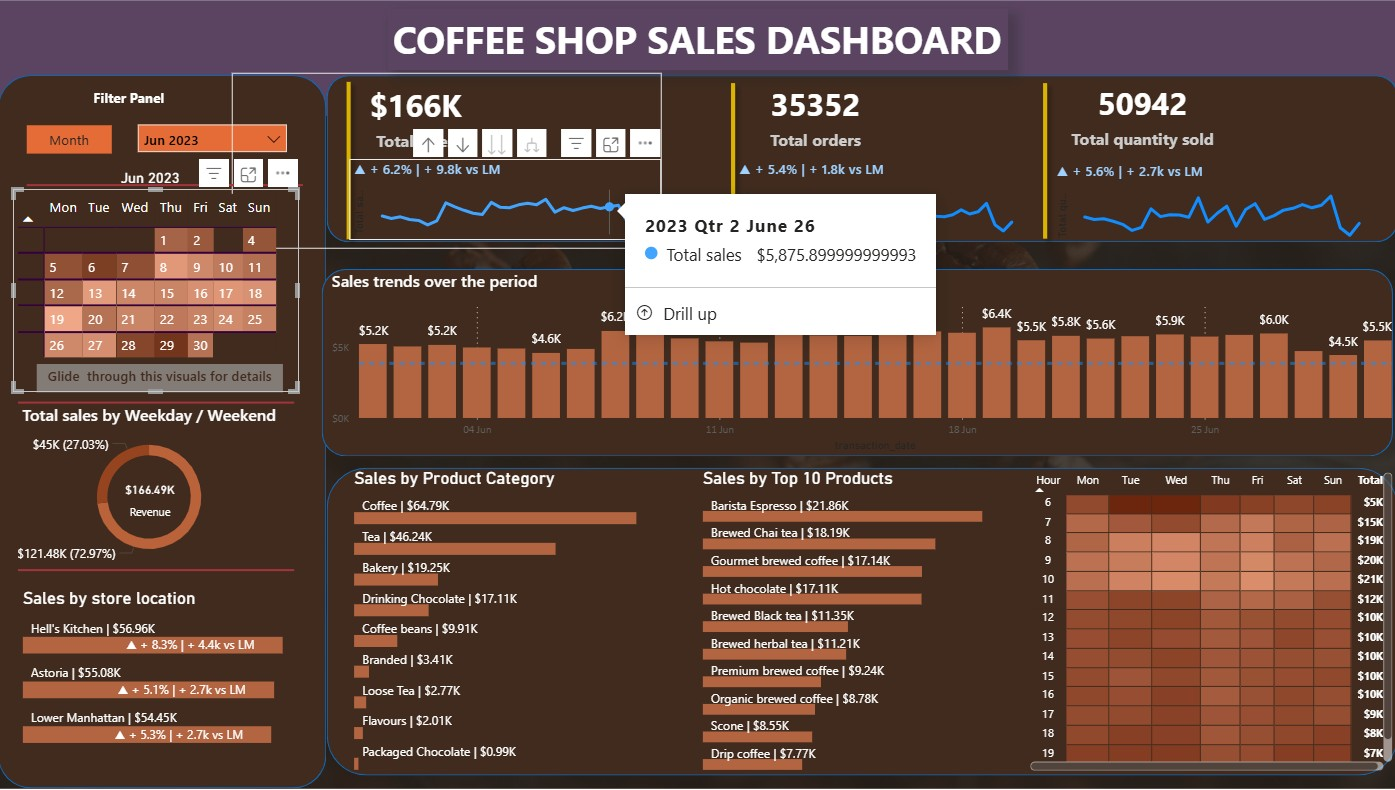

Layout of this report page (visuals, bound fields, positions):
{"tool":"powerbi","page":{"name":"Page 1","canvas":[1383,858],"ordinal":0},"visuals":[{"type":"shape","box":[0,35.6,1383.3,114.2],"z":0},{"type":"shape","box":[231.1,107.9,230.9,173.5],"z":0,"group":"g4"},{"type":"shape","box":[604,108.9,244.6,173],"z":0,"group":"g5"},{"type":"shape","box":[882.2,109.4,305.5,171.7],"z":0,"group":"g6"},{"type":"shape","box":[0,105.4,324.4,709.6],"z":1000},{"type":"lineChart","fields":{"Category":["Date table.Date.Variation.Date Hierarchy.Year","Date table.Date.Variation.Date Hierarchy.Quarter","Date table.Date.Variation.Date Hierarchy.Month","Date table.Date.Variation.Date Hierarchy.Day"],"Y":["Transactions.Total orders"]},"box":[727,192.6,289.4,78.2],"z":1000,"group":"g5"},{"type":"lineChart","fields":{"Category":["Date table.Date.Variation.Date Hierarchy.Year","Date table.Date.Variation.Date Hierarchy.Quarter","Date table.Date.Variation.Date Hierarchy.Month","Date table.Date.Variation.Date Hierarchy.Day"],"Y":["Transactions.Total sales"]},"box":[347.3,193.2,308.2,79.7],"z":1000,"group":"g4"},{"type":"lineChart","fields":{"Category":["Date table.Date.Variation.Date Hierarchy.Year","Date table.Date.Variation.Date Hierarchy.Quarter","Date table.Date.Variation.Date Hierarchy.Month","Date table.Date.Variation.Date Hierarchy.Day"],"Y":["Transactions.Total QUANTITY SOLD"]},"box":[1041.4,195.3,319,81.1],"z":1000,"group":"g6"},{"type":"shape","box":[324.4,109.5,1058.3,164.9],"z":2000},{"type":"textbox","box":[526.6,36,442.6,60],"z":3000},{"type":"card","fields":{"Values":["Transactions.Total QUANTITY SOLD"]},"box":[1048.6,105.4,180.2,102.3],"z":4000,"group":"g3"},{"type":"card","fields":{"Values":["Transactions.Total orders"]},"box":[736.7,106.8,158.6,102.3],"z":4000,"group":"g2"},{"type":"card","fields":{"Values":["Transactions.Total sales"]},"box":[341,108.2,158.6,102.3],"z":4000,"group":"g1"},{"type":"slicer","fields":{"Values":["Date table.Month Year"]},"box":[133.8,148.7,156.8,62.2],"z":4000},{"type":"group","id":"g1","title":"Group 2","box":[231.1,107.9,424.3,173.5],"z":5000},{"type":"group","id":"g2","title":"Group 2","box":[604,106.8,412.4,175.1],"z":6000},{"type":"group","id":"g3","title":"Group 2","box":[882.2,105.4,478.2,175.7],"z":7000},{"type":"pivotTable","fields":{"Rows":["Date table.Week Number"],"Columns":["Date table.Day name"],"Values":["Min(Date table.Day Number)"]},"box":[14.9,221.7,282.5,201.4],"z":8000},{"type":"group","id":"g4","title":"Group 1","box":[231.1,107.9,424.3,173.5],"z":9000,"group":"g1"},{"type":"group","id":"g5","title":"Group 1","box":[604,108.9,412.4,173],"z":9000,"group":"g2"},{"type":"group","id":"g6","title":"Group 1","box":[882.2,109.4,478.2,171.7],"z":9000,"group":"g3"},{"type":"card","fields":{"Values":["Transactions.Foot Note"]},"box":[37.8,394.7,243.3,28.4],"z":9000},{"type":"card","fields":{"Values":["Min(Date table.Month Year)"]},"box":[106.8,197.3,85.2,24.3],"z":10000},{"type":"shape","box":[20.3,406.8,273,54.1],"z":11000},{"type":"shape","box":[28.4,191.9,273,54.1],"z":12000},{"type":"donutChart","fields":{"Category":["Date table.Weekday / Weekend"],"Y":["Transactions.Total sales"]},"box":[6.8,433.9,286.5,164.9],"z":13000},{"type":"card","fields":{"Values":["Transactions.Total sales"]},"box":[89.2,486.6,123,82.4],"z":14000},{"type":"shape","box":[20.3,571.7,273,54.1],"z":15000},{"type":"clusteredBarChart","title":"Sales by store location ","fields":{"Category":["Transactions.store_location"],"Y":["Transactions.placeholder","Transactions.Total sales"]},"box":[20.3,616.3,293.3,160.8],"z":16000},{"type":"shape","box":[320.3,301.4,1058.3,185.2],"z":17000},{"type":"clusteredColumnChart","title":"Sales trends over the period  ","fields":{"Category":["Transactions.transaction_date"],"Y":["Transactions.Total sales"]},"box":[324.4,301.4,1058.3,185.2],"z":18000},{"type":"shape","box":[324.4,497.4,1058.3,304.1],"z":19000},{"type":"clusteredBarChart","title":"Sales by store location ","fields":{"Y":["Transactions.placeholder","Transactions.Total sales"],"Category":["Transactions.product_category"]},"box":[347.4,497.4,316.3,304.1],"z":21000},{"type":"clusteredBarChart","title":"Sales by store location ","fields":{"Y":["Transactions.placeholder","Transactions.Total sales"],"Category":["Transactions.product_type"]},"box":[692,497.4,314.9,304.1],"z":22000},{"type":"pivotTable","fields":{"Rows":["Transactions.Hour"],"Columns":["Date table.Day name"],"Values":["Transactions.Total sales"]},"box":[1015.1,497.4,367.6,304.1],"z":23000},{"type":"textbox","box":[28.4,159.5,83.8,28.4],"z":24000},{"type":"textbox","box":[70.3,118.9,121.6,29.7],"z":25000}]}

Visuals, with their boxes on the page's 1383x858 design canvas (x1, y1, x2, y2). These are canvas units, not pixel positions in the 1395x790 screenshot, which may show the page scaled, cropped or inside an application window:
shape: bbox(0, 36, 1383, 150)
shape: bbox(231, 108, 462, 281)
shape: bbox(604, 109, 849, 282)
shape: bbox(882, 109, 1188, 281)
shape: bbox(0, 105, 324, 815)
lineChart - Date table.Date.Variation.Date Hierarchy.Year x Date table.Date.Variation.Date Hierarchy.Quarter: bbox(727, 193, 1016, 271)
lineChart - Date table.Date.Variation.Date Hierarchy.Year x Date table.Date.Variation.Date Hierarchy.Quarter: bbox(347, 193, 656, 273)
lineChart - Date table.Date.Variation.Date Hierarchy.Year x Date table.Date.Variation.Date Hierarchy.Quarter: bbox(1041, 195, 1360, 276)
shape: bbox(324, 110, 1383, 274)
textbox: bbox(527, 36, 969, 96)
card - Transactions.Total QUANTITY SOLD: bbox(1049, 105, 1229, 208)
card - Transactions.Total orders: bbox(737, 107, 895, 209)
card - Transactions.Total sales: bbox(341, 108, 500, 210)
slicer - Date table.Month Year: bbox(134, 149, 291, 211)
"Group 2" group: bbox(231, 108, 655, 281)
"Group 2" group: bbox(604, 107, 1016, 282)
"Group 2" group: bbox(882, 105, 1360, 281)
pivotTable - Date table.Week Number x Date table.Day name: bbox(15, 222, 297, 423)
"Group 1" group: bbox(231, 108, 655, 281)
"Group 1" group: bbox(604, 109, 1016, 282)
"Group 1" group: bbox(882, 109, 1360, 281)
card - Transactions.Foot Note: bbox(38, 395, 281, 423)
card - Min(Date table.Month Year): bbox(107, 197, 192, 222)
shape: bbox(20, 407, 293, 461)
shape: bbox(28, 192, 301, 246)
donutChart - Date table.Weekday / Weekend x Transactions.Total sales: bbox(7, 434, 293, 599)
card - Transactions.Total sales: bbox(89, 487, 212, 569)
shape: bbox(20, 572, 293, 626)
"Sales by store location " clusteredBarChart: bbox(20, 616, 314, 777)
shape: bbox(320, 301, 1379, 487)
"Sales trends over the period  " clusteredColumnChart: bbox(324, 301, 1383, 487)
shape: bbox(324, 497, 1383, 802)
"Sales by store location " clusteredBarChart: bbox(347, 497, 664, 802)
"Sales by store location " clusteredBarChart: bbox(692, 497, 1007, 802)
pivotTable - Transactions.Hour x Date table.Day name: bbox(1015, 497, 1383, 802)
textbox: bbox(28, 160, 112, 188)
textbox: bbox(70, 119, 192, 149)
